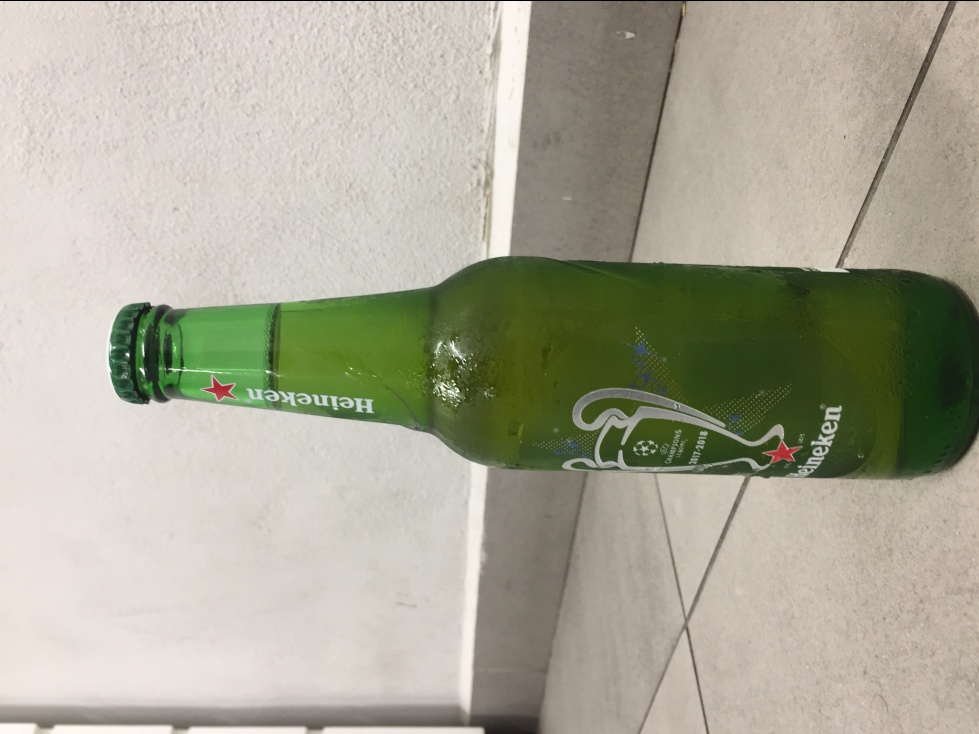heineken: (105, 253, 979, 482)
